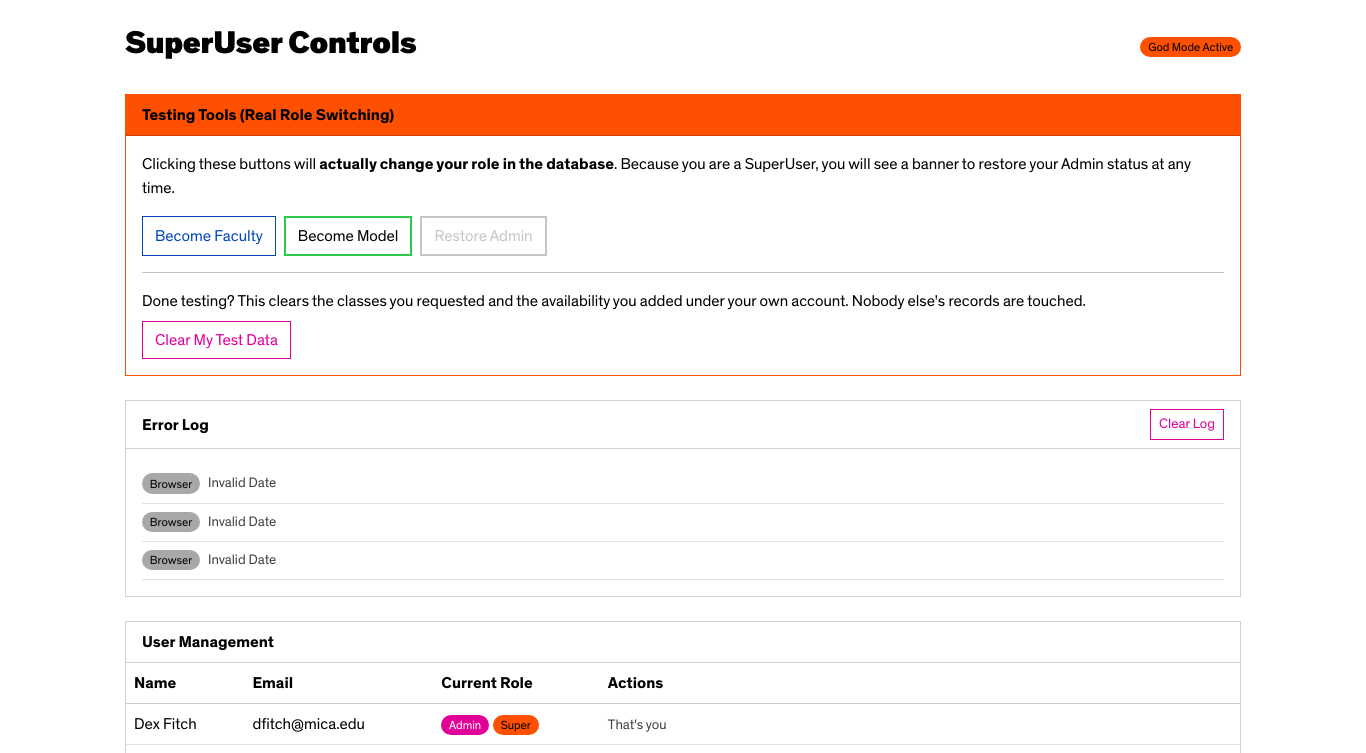
it: SuperUserPanel › explains why switching your own role failed
Click the button "Become Model".
click(348, 236)  # box [284,216,412,256]
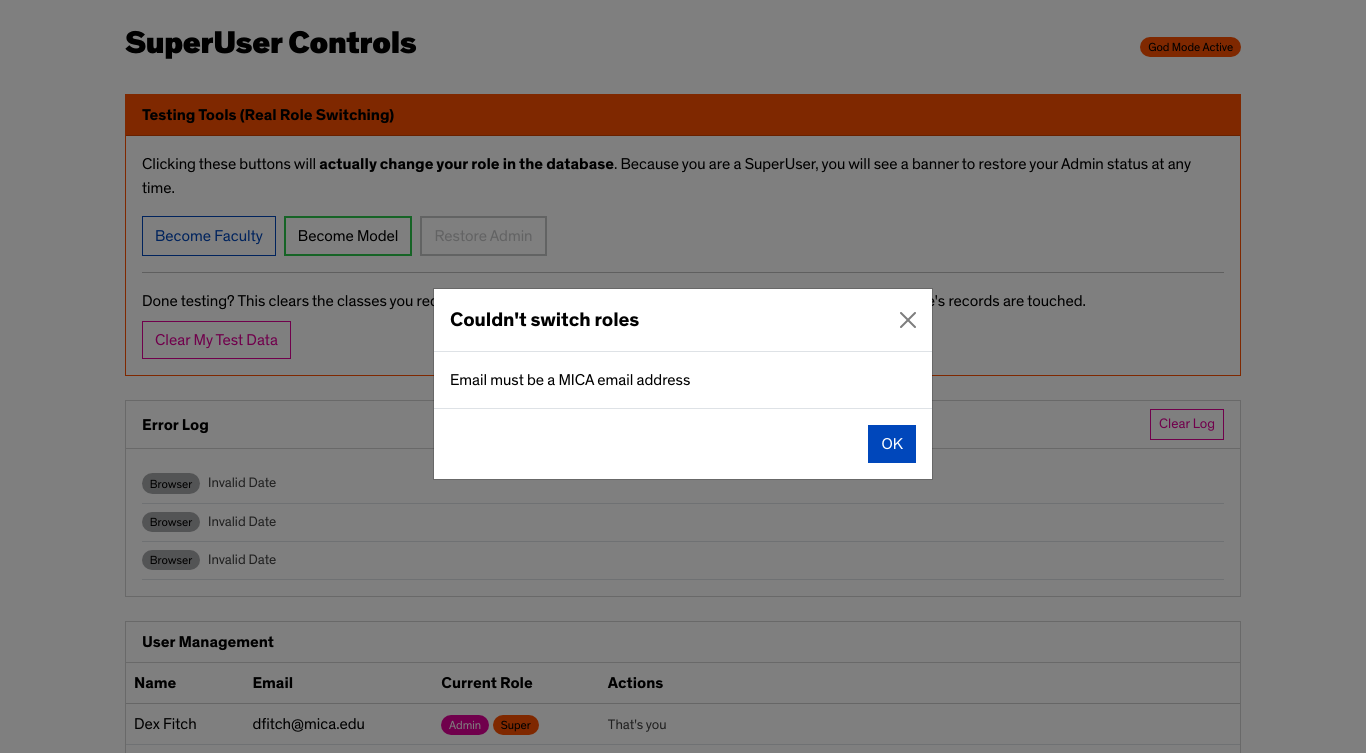
Result: the dialog shows "Email must be a MICA email address" at [450,372,690,388]
